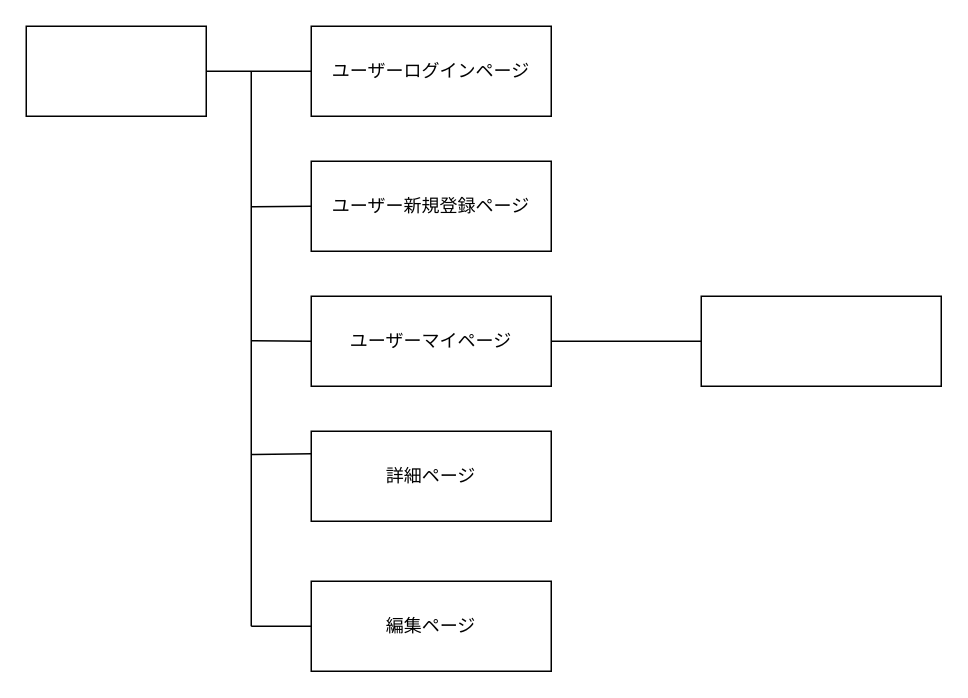
The diagram is 968 pixels wide and 698 high, and some of its shapes have lost their labels. Each missing label, with the centre of its shape:
"レポート投稿一覧ページ" belongs at [820,340].
"一覧ページ （トップページ）" belongs at [115,70].
